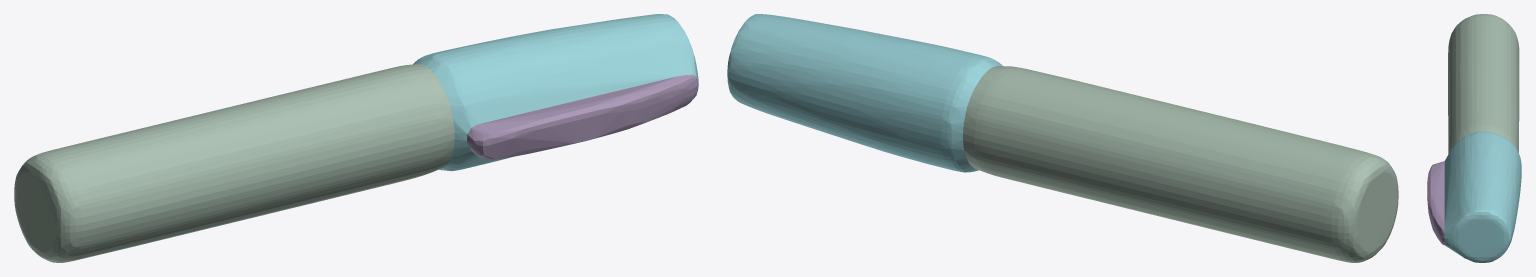
The model's file is sharpie_marker-collision.glb.
3 views of the same model, side by side, from view 1: azimuth 30°, elevation 25°; view 2: azimuth 150°, elevation 25°; view 3: azimuth 270°, elevation 25° (orthographic). The views are drawn at different scales.
Parts seen in each view (by area): view 1: sharpie_marker_collision0_0, sharpie_marker_collision2_0, sharpie_marker_collision1_0; view 2: sharpie_marker_collision0_0, sharpie_marker_collision2_0; view 3: sharpie_marker_collision2_0, sharpie_marker_collision0_0, sharpie_marker_collision1_0.
Part boxes in pixels (left/top/right/bottom): sharpie_marker_collision0_0: left=14, top=64, right=454, bottom=262; sharpie_marker_collision2_0: left=413, top=14, right=698, bottom=171; sharpie_marker_collision1_0: left=467, top=74, right=698, bottom=159; sharpie_marker_collision0_0: left=963, top=66, right=1398, bottom=262; sharpie_marker_collision2_0: left=727, top=14, right=1003, bottom=172; sharpie_marker_collision2_0: left=1444, top=131, right=1521, bottom=262; sharpie_marker_collision0_0: left=1448, top=14, right=1519, bottom=153; sharpie_marker_collision1_0: left=1427, top=161, right=1444, bottom=245.
Size of the model in its own units: 0.1445 by 0.0235 by 0.0294.
